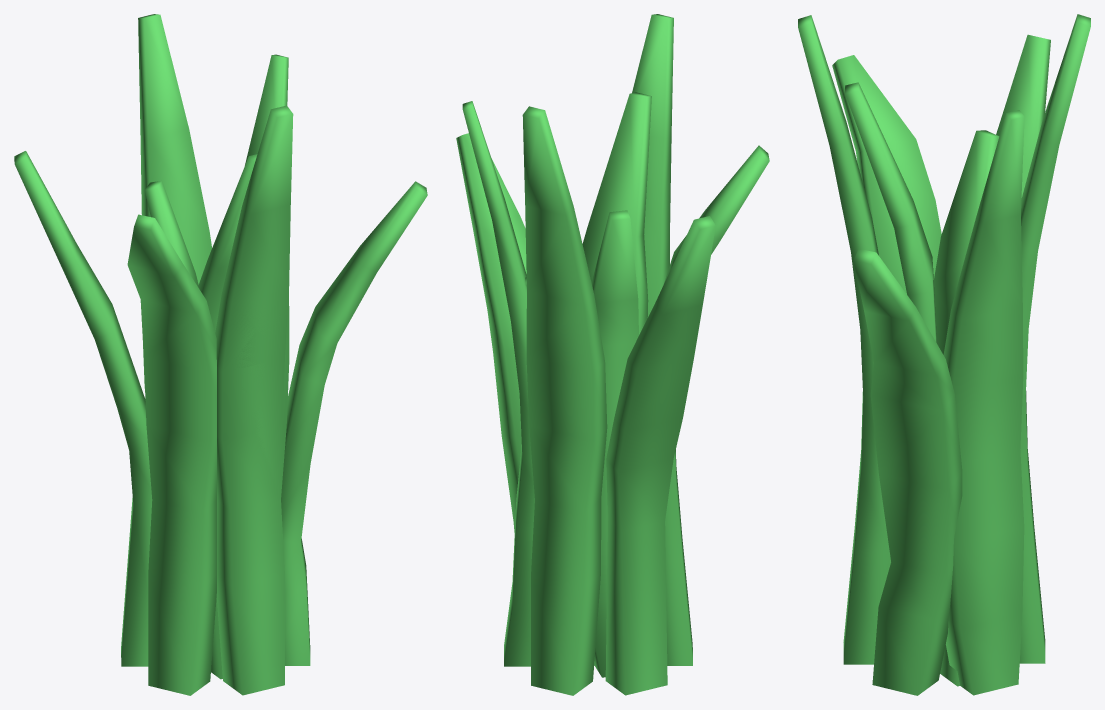
File: Toiceira_2.fbx
3 renders of one model, left to right at view 1: azimuth 30°, elevation 25°; view 2: azimuth 150°, elevation 25°; view 3: azimuth 270°, elevation 25°, orthographic. The views are drawn at different scales.
Visible parts, largest first — view 1: Toiceira_2; view 2: Toiceira_2; view 3: Toiceira_2.
Boxes of the visible parts, x1,y1,x2,y2 form: Toiceira_2: (14,14,427,695); Toiceira_2: (456,14,769,695); Toiceira_2: (798,14,1090,695).
Size of the model in its own units: 0.1966 by 0.2781 by 0.4698.
